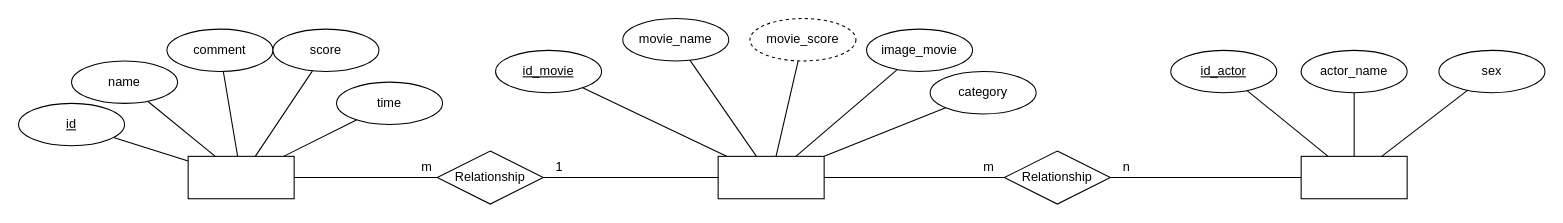
The diagram is 1563 pixels wide and 223 high, and some of its shapes have lost their labels. Here are the shapes that lost their labels. From the top down, the centre of each, then its label:
the point at 240,177: review
the point at 770,177: movie
the point at 1353,177: actor
